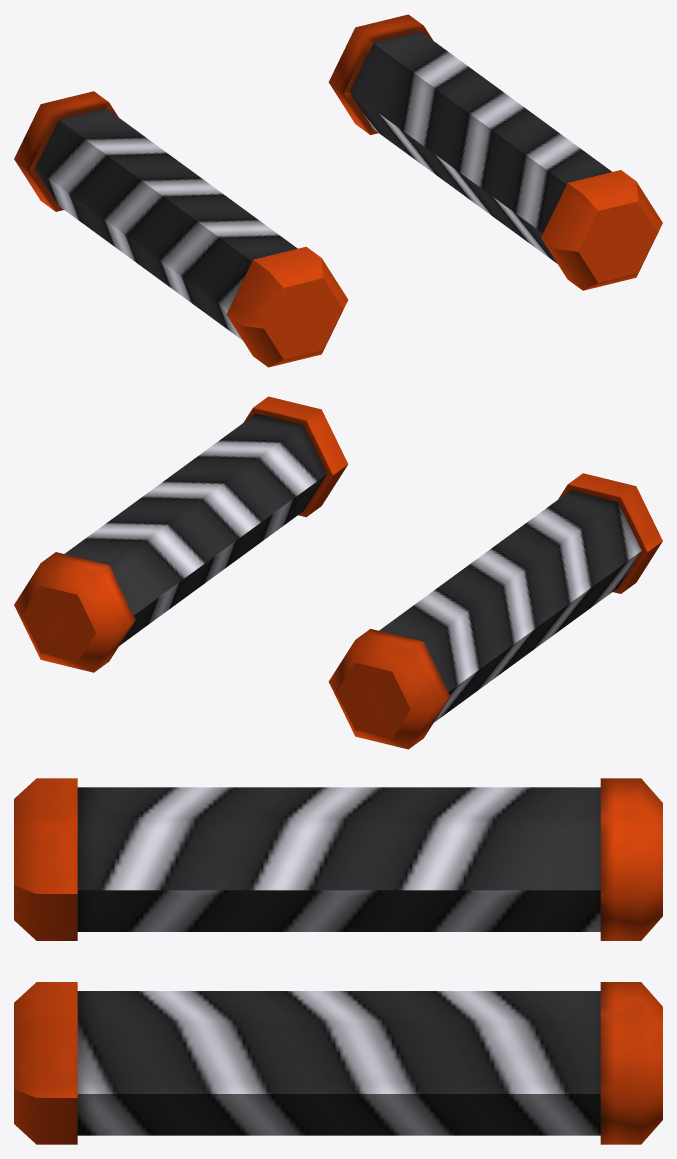
File: _rapid_firing_gun.FBX
3 renders of one model, top to bottom at view 1: azimuth 30°, elevation 25°; view 2: azimuth 150°, elevation 25°; view 3: azimuth 270°, elevation 25°, orthographic. The views are drawn at different scales.
Parts seen in each view (by area): view 1: _rapid_firing_gun; view 2: _rapid_firing_gun; view 3: _rapid_firing_gun.
Boxes of the visible parts, bbox=[...] form: _rapid_firing_gun: bbox=[14, 14, 662, 367]; _rapid_firing_gun: bbox=[14, 396, 662, 749]; _rapid_firing_gun: bbox=[14, 778, 662, 1144].
Size of the model in its own units: 0.6752 by 0.148 by 0.679.
